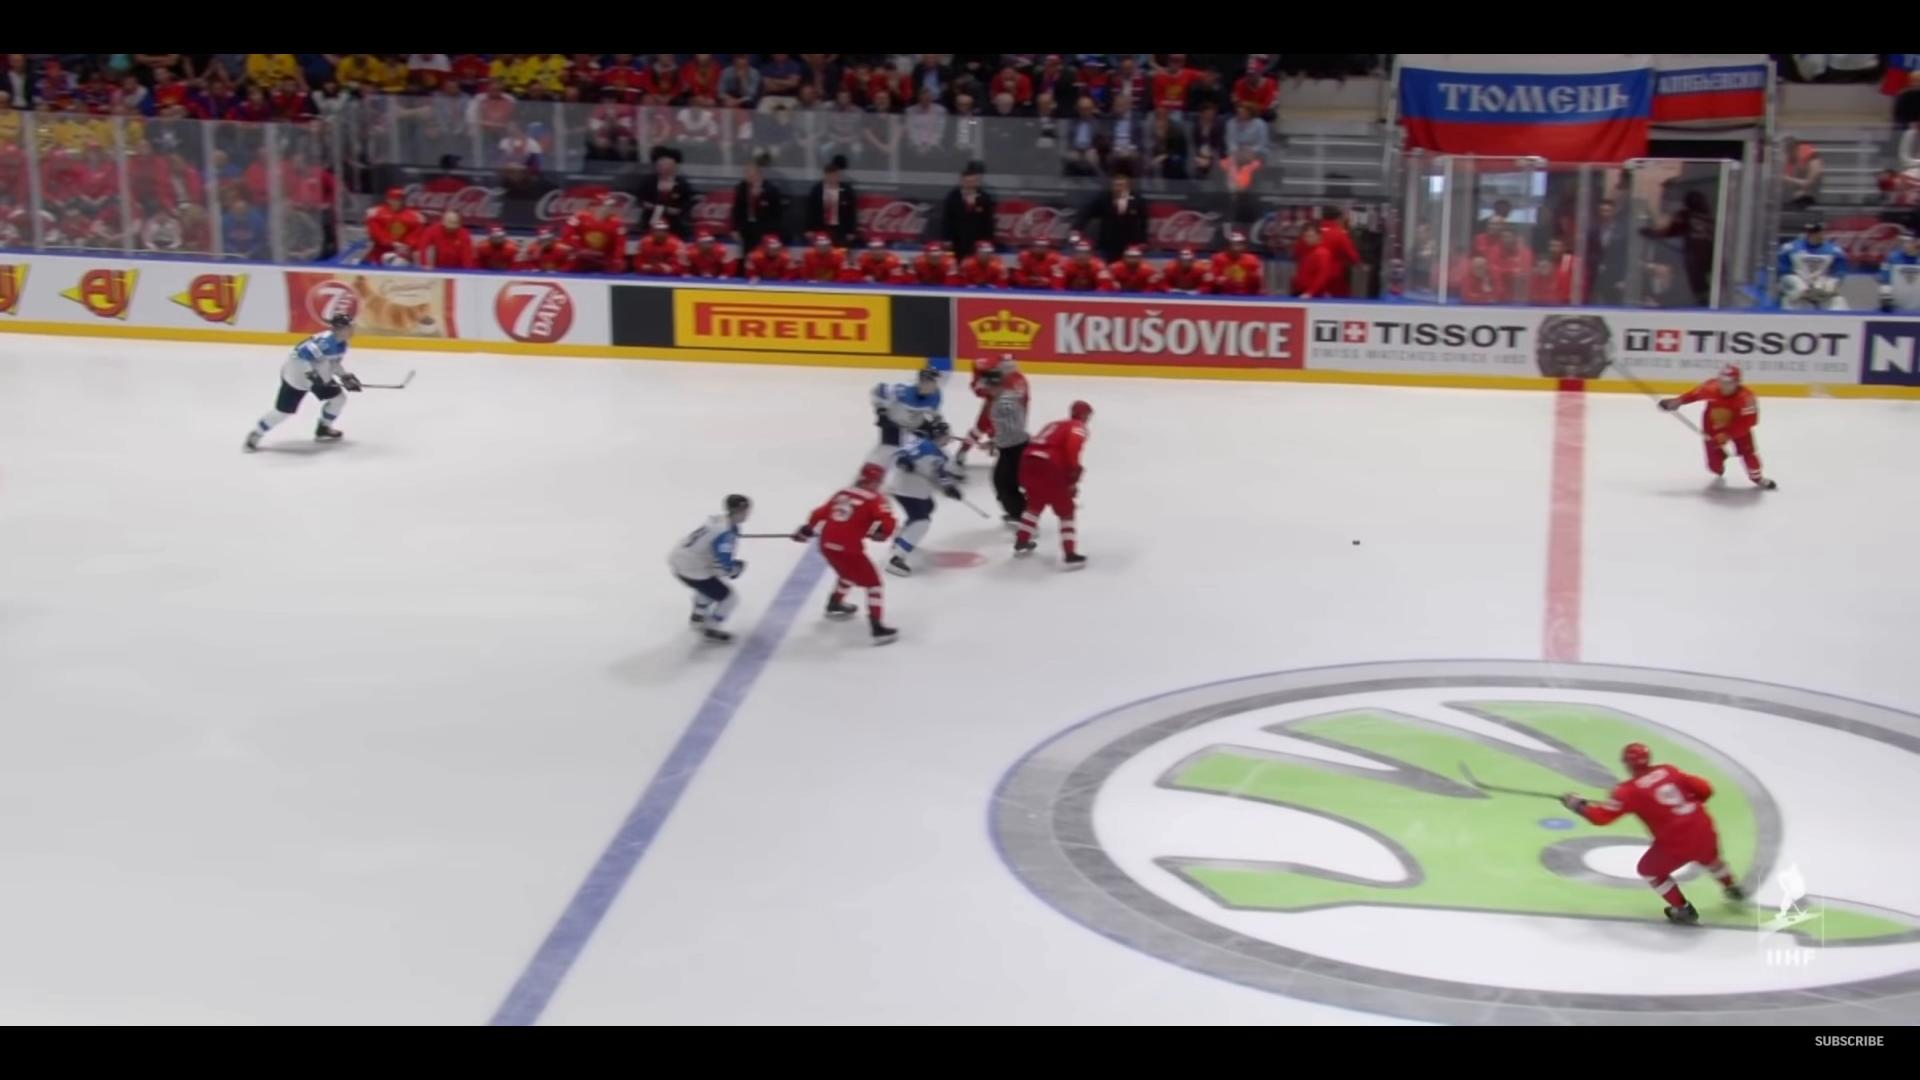puck: (1352, 539, 1360, 545)
